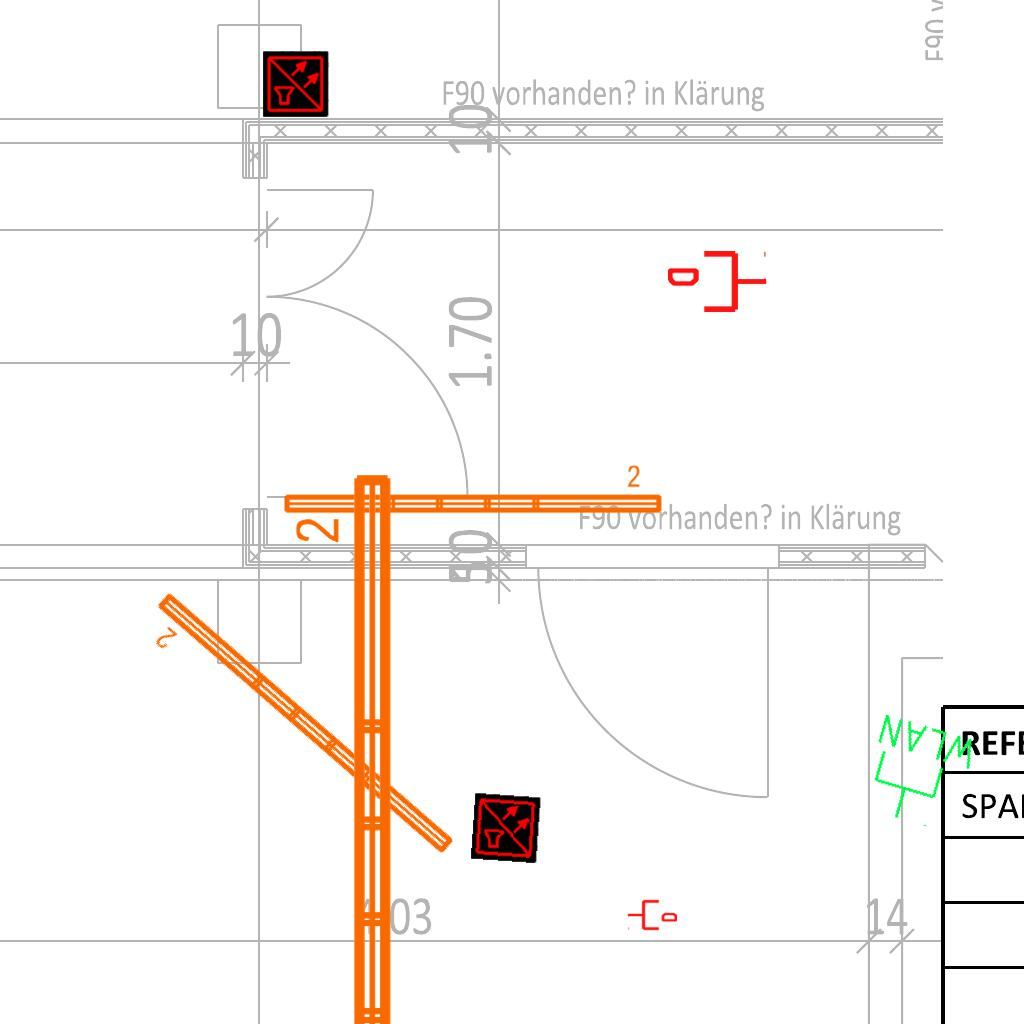Ambulanz_Pendelleuchte_LED: (133, 584, 462, 882), (291, 466, 403, 1024), (279, 463, 666, 519)
Datenanschluss_einfach: (668, 247, 768, 316), (627, 898, 677, 932)
OKW_Multisensormelder_(Kombination_optischer_Rauch-Kahlenmonoxid_Waerme-Melder): (470, 792, 542, 864), (263, 51, 329, 117)
WLAN: (854, 709, 984, 838)
